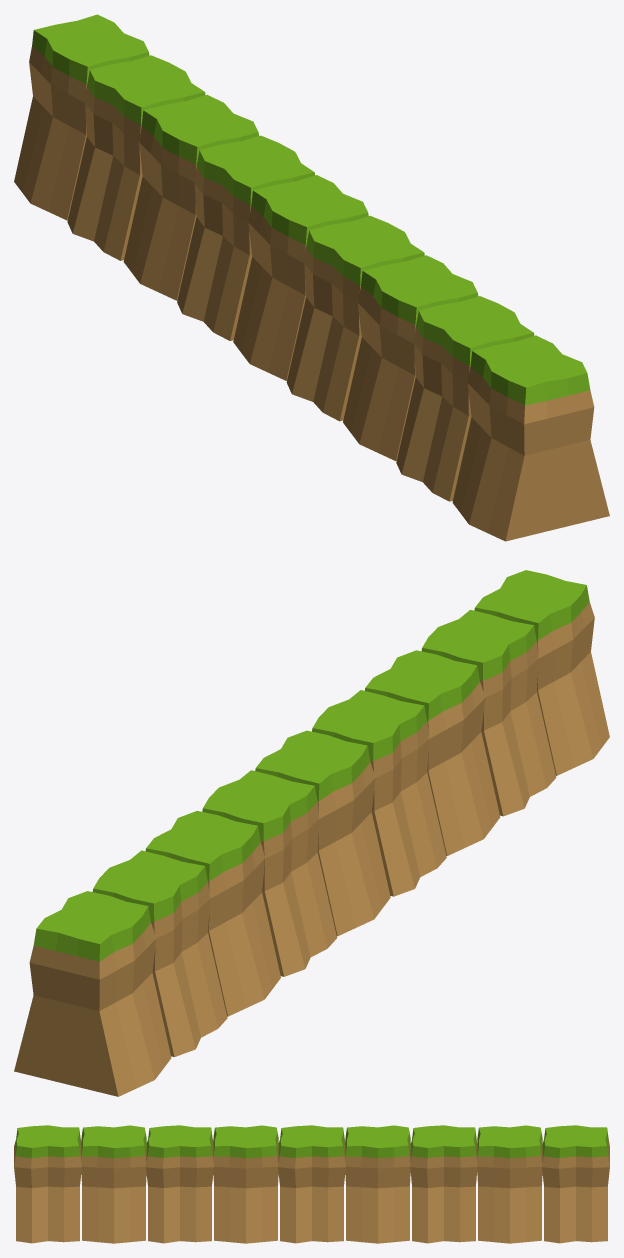
Rendered from Single tile1.fbx.
The picture shows the model from 3 angles, top to bottom: view 1: azimuth 30°, elevation 25°; view 2: azimuth 150°, elevation 25°; view 3: azimuth 270°, elevation 25°; orthographic projection. The views are drawn at different scales.
Visible parts, largest first — view 1: Single_Tile; view 2: Single_Tile; view 3: Single_Tile.
Boxes of the visible parts, left/top/right/bottom form: Single_Tile: left=14, top=14, right=609, bottom=541; Single_Tile: left=14, top=570, right=609, bottom=1096; Single_Tile: left=14, top=1125, right=609, bottom=1243.
Bounding box in the file's own units: 726 × 831 × 5051.
